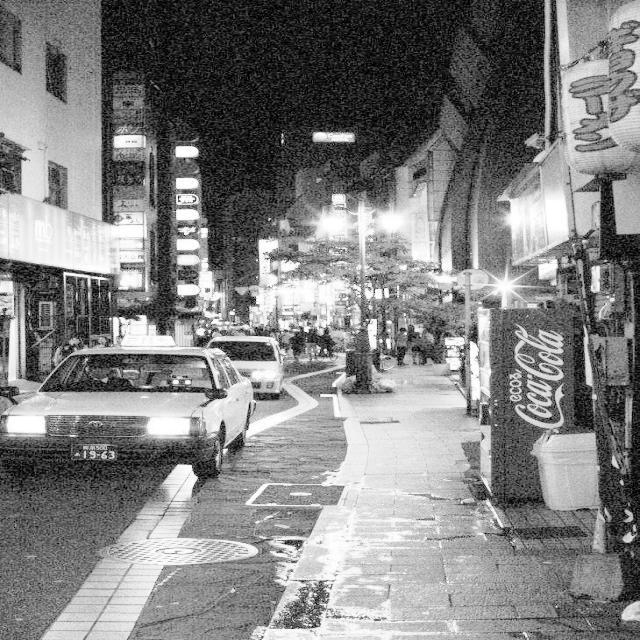Bicycle: (367, 325, 447, 381)
Car: (10, 332, 256, 499), (216, 318, 338, 412)
